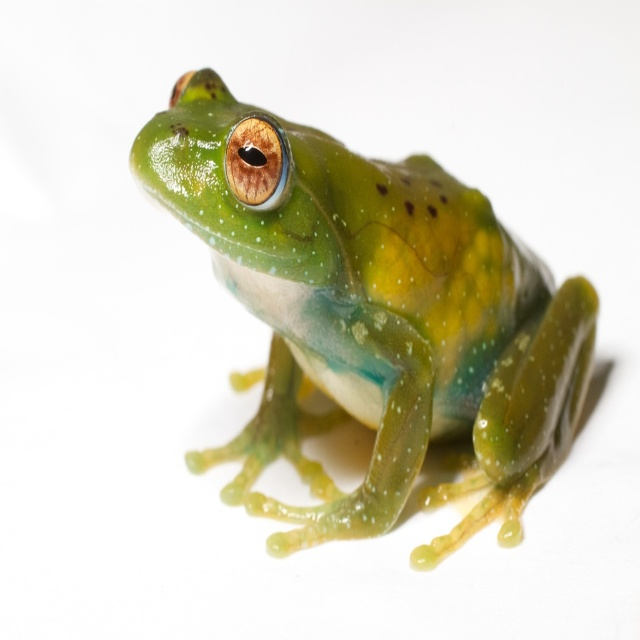Frog: (125, 64, 611, 576)
